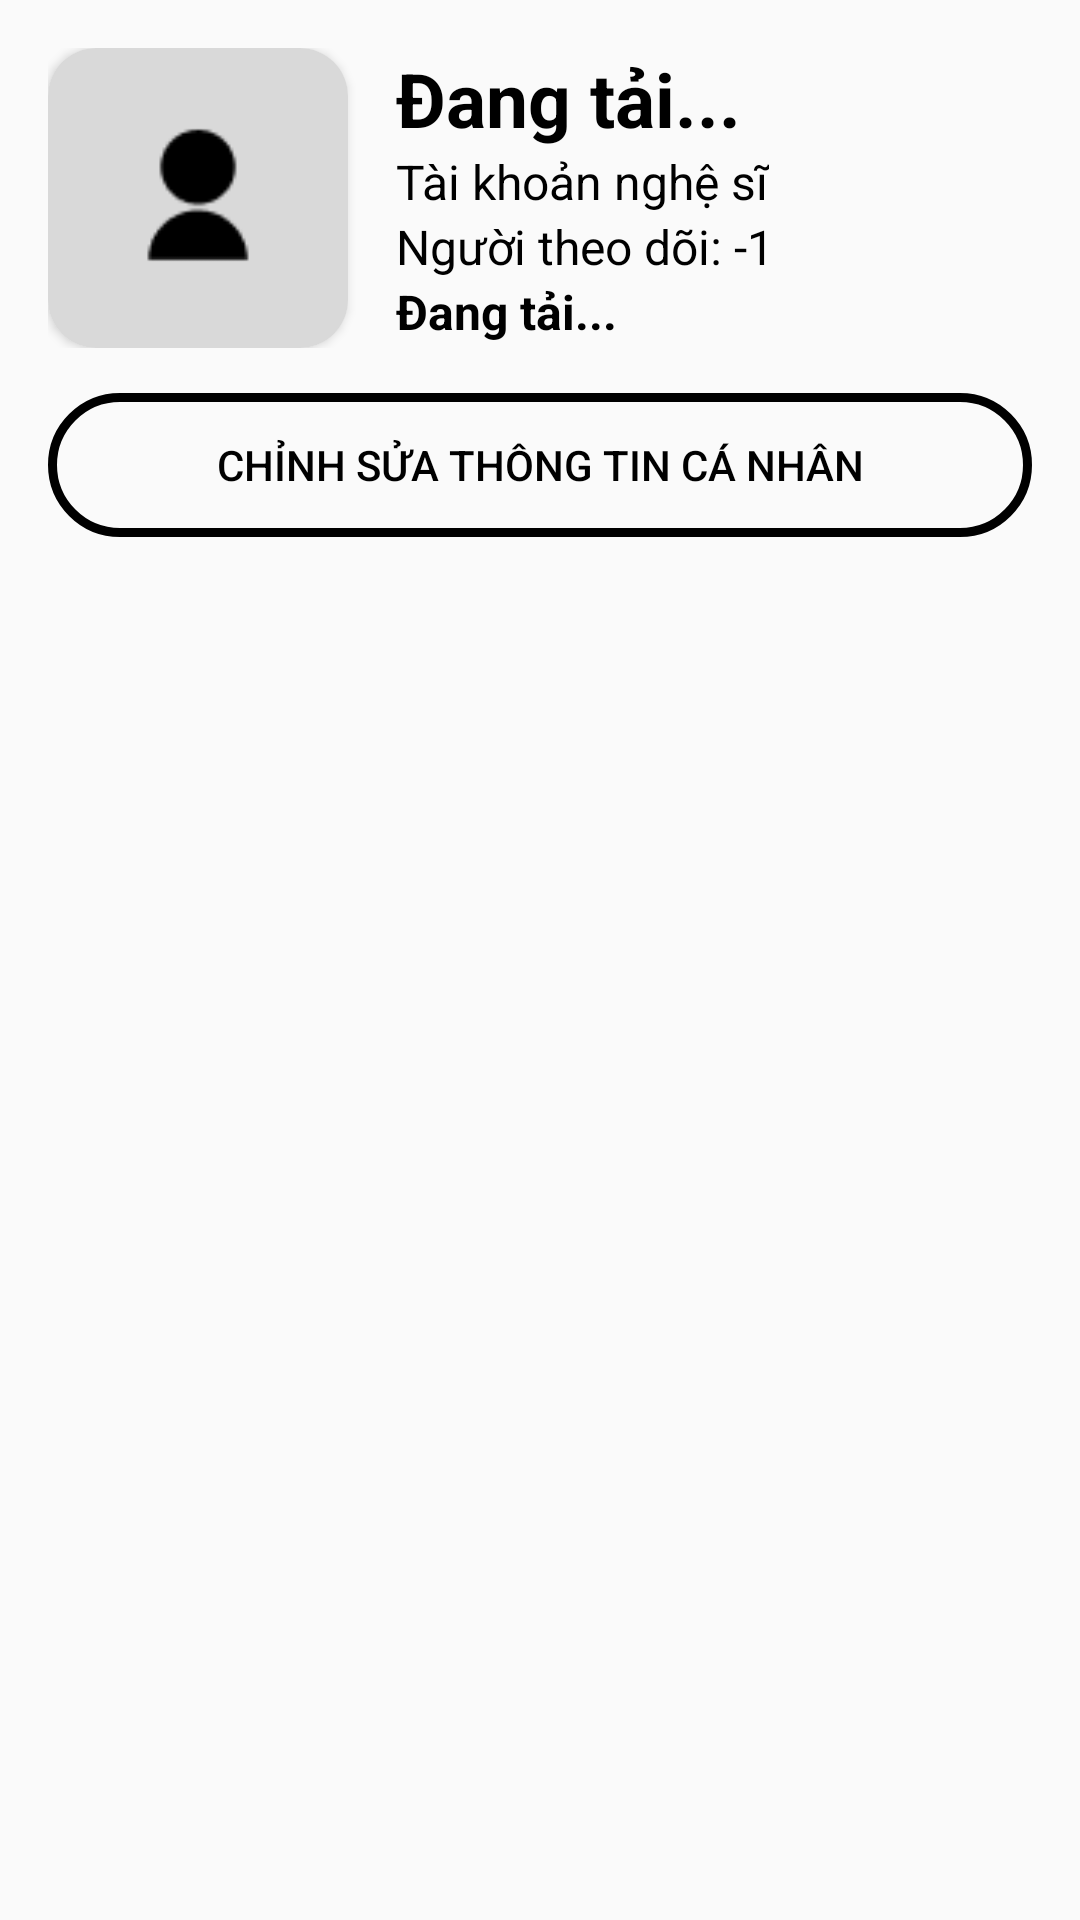

Screen size 1080px x 1920px. Icon name, then its center in pixels as [x,y]:
avt: [198,198]
